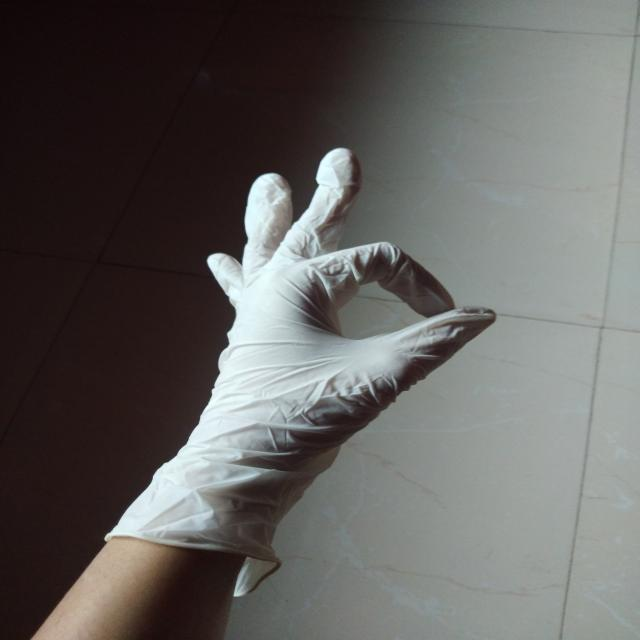glove_hand: (76, 144, 504, 600)
